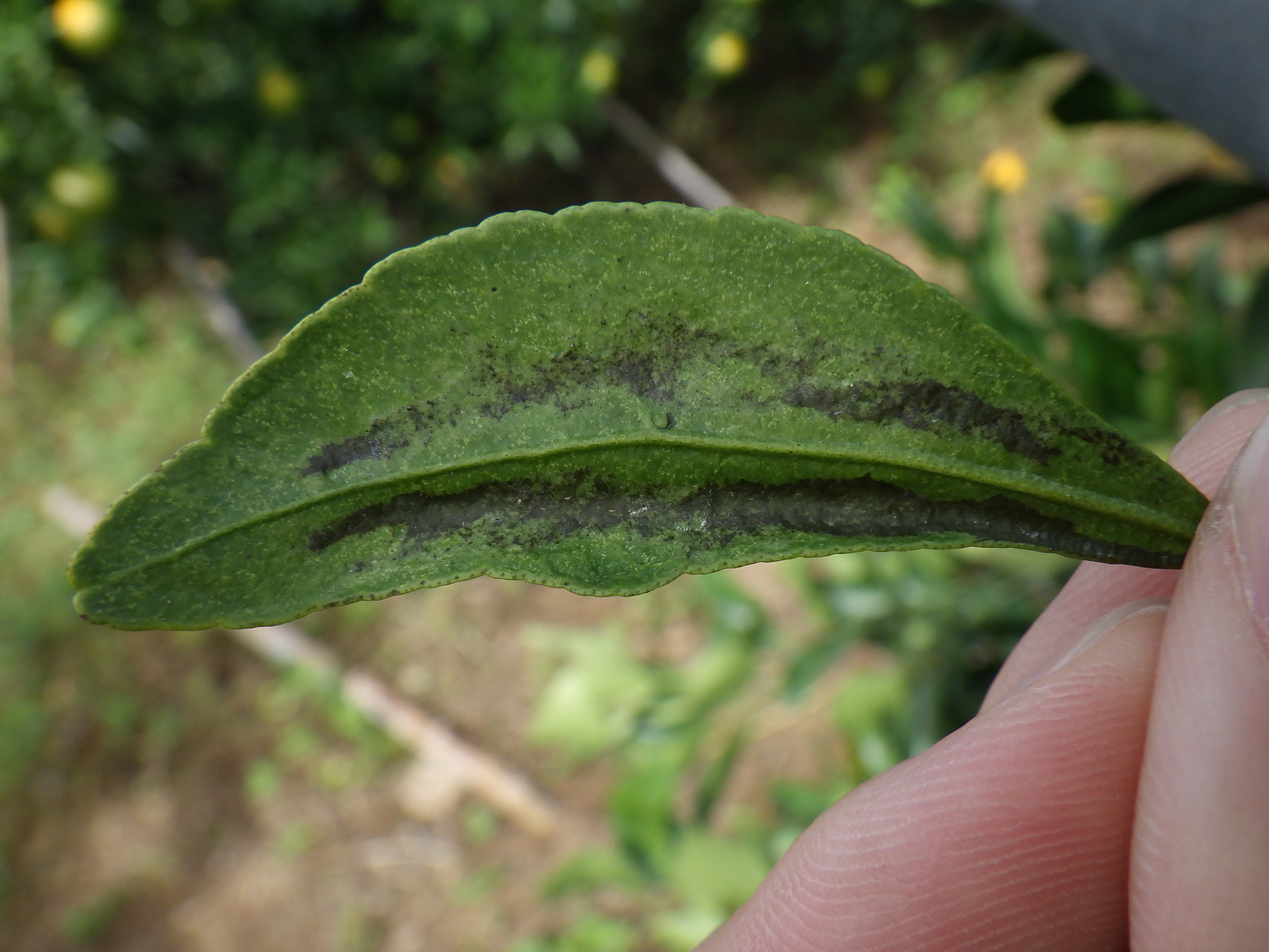Thrips_Damage: (301, 341, 1092, 557)
